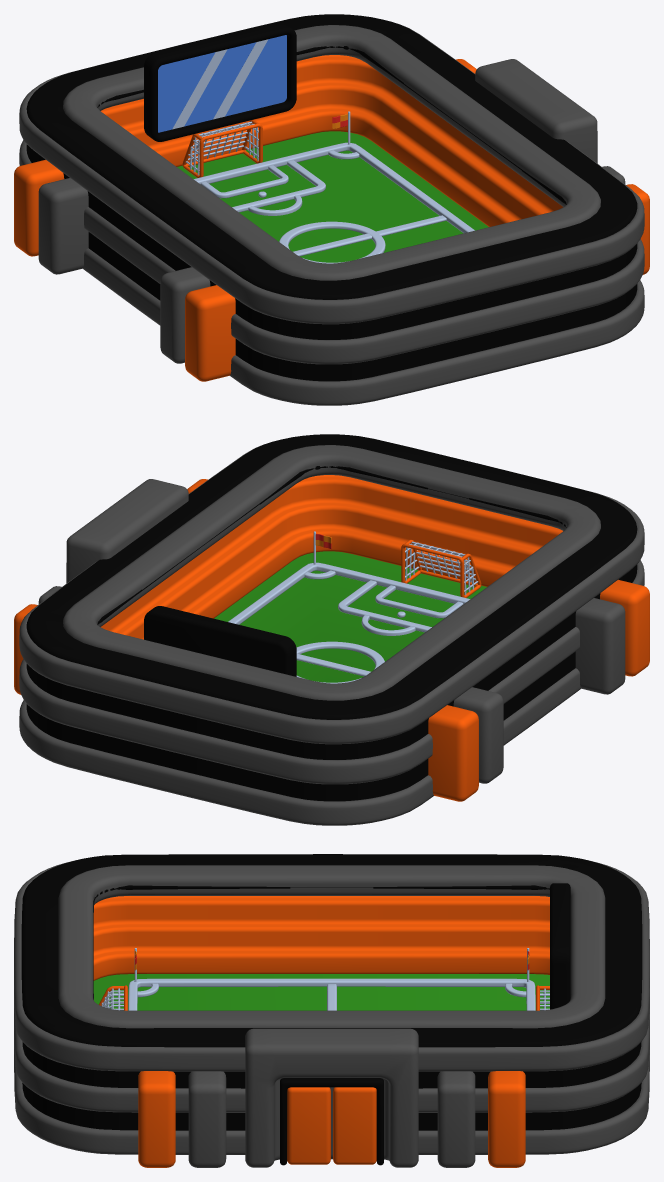
The model's file is compressed-glb.glb.
The picture shows the model from 3 angles, top to bottom: view 1: azimuth 30°, elevation 25°; view 2: azimuth 150°, elevation 25°; view 3: azimuth 270°, elevation 25°; orthographic projection. The views are drawn at different scales.
Visible parts, largest first — view 1: Plane, Plane.008, Plane.015, Plane.007, Plane.001, Plane.017, Plane.012, Plane.011, Plane.010, Plane.009, Plane.005, Vert (+4 smaller); view 2: Plane, Plane.008, Plane.015, Plane.007, Plane.001, Plane.012, Plane.011, Plane.009, Plane.010, Vert, Plane.005, Plane.002 (+2 smaller); view 3: Plane, Plane.007, Plane.015, Plane.008, Plane.010, Plane.001, Plane.011, Plane.012, Plane.014, Plane.005, Plane.009, Plane.013 (+1 smaller).
Boxes of the visible parts, x1=… form: Plane: x1=26, y1=14, x2=637, y2=381; Plane.008: x1=19, y1=22, x2=644, y2=405; Plane.015: x1=63, y1=25, x2=600, y2=280; Plane.007: x1=101, y1=55, x2=562, y2=226; Plane.001: x1=177, y1=131, x2=488, y2=262; Plane.017: x1=158, y1=35, x2=286, y2=132; Plane.012: x1=14, y1=59, x2=649, y2=381; Plane.011: x1=38, y1=166, x2=625, y2=363; Plane.010: x1=475, y1=59, x2=597, y2=163; Plane.009: x1=144, y1=22, x2=296, y2=141; Plane.005: x1=193, y1=142, x2=474, y2=233; Vert: x1=182, y1=120, x2=262, y2=177; Plane: x1=26, y1=434, x2=637, y2=801; Plane.008: x1=19, y1=435, x2=644, y2=825; Plane.015: x1=63, y1=445, x2=600, y2=700; Plane.007: x1=101, y1=475, x2=562, y2=639; Plane.001: x1=214, y1=551, x2=486, y2=682; Plane.012: x1=14, y1=479, x2=649, y2=801; Plane.011: x1=38, y1=586, x2=625, y2=783; Plane.009: x1=144, y1=606, x2=296, y2=676; Plane.010: x1=66, y1=479, x2=188, y2=583; Vert: x1=401, y1=540, x2=481, y2=597; Plane.005: x1=228, y1=562, x2=470, y2=624; Plane.002: x1=338, y1=580, x2=431, y2=632; Plane: x1=21, y1=854, x2=642, y2=1130; Plane.007: x1=93, y1=896, x2=549, y2=980; Plane.015: x1=58, y1=865, x2=605, y2=1028; Plane.008: x1=14, y1=862, x2=649, y2=1154; Plane.010: x1=245, y1=1028, x2=418, y2=1167; Plane.001: x1=93, y1=974, x2=549, y2=1010; Plane.011: x1=188, y1=1071, x2=475, y2=1167; Plane.012: x1=138, y1=1071, x2=525, y2=1167; Plane.014: x1=287, y1=1087, x2=376, y2=1164; Plane.005: x1=128, y1=978, x2=535, y2=1010; Plane.009: x1=550, y1=883, x2=570, y2=1009; Plane.013: x1=280, y1=1078, x2=383, y2=1165.
Size of the model in its own units: 1.68 by 0.4996 by 2.
